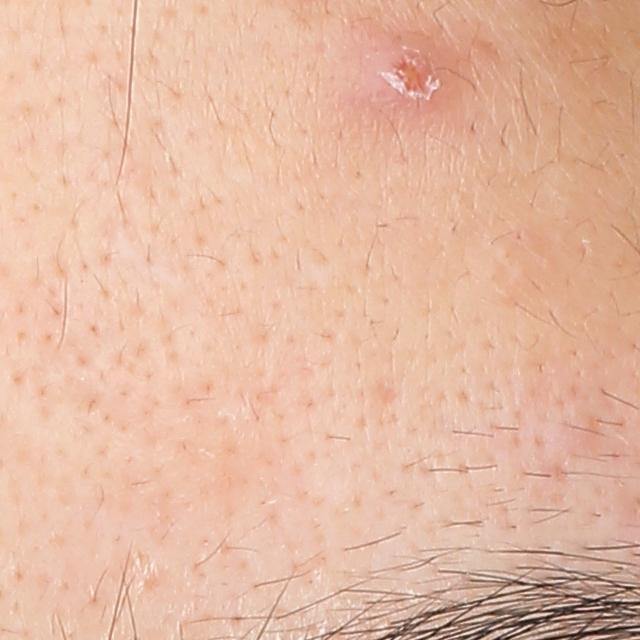atrophic_scar: (375, 375, 410, 409)
papule: (347, 33, 451, 113)
